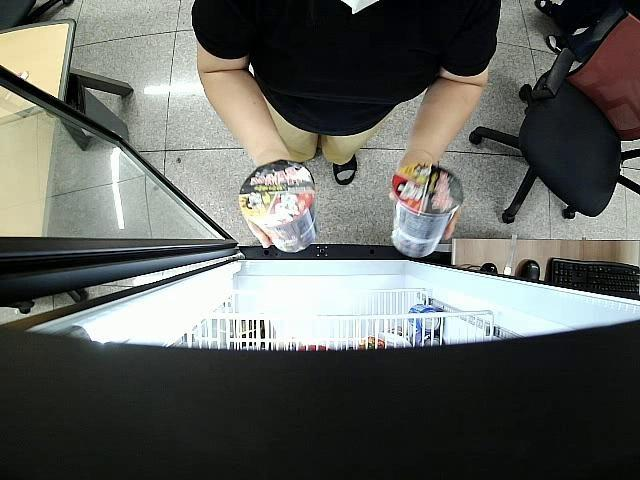08_buldak_S: (239, 160, 318, 255), (388, 164, 463, 260)
